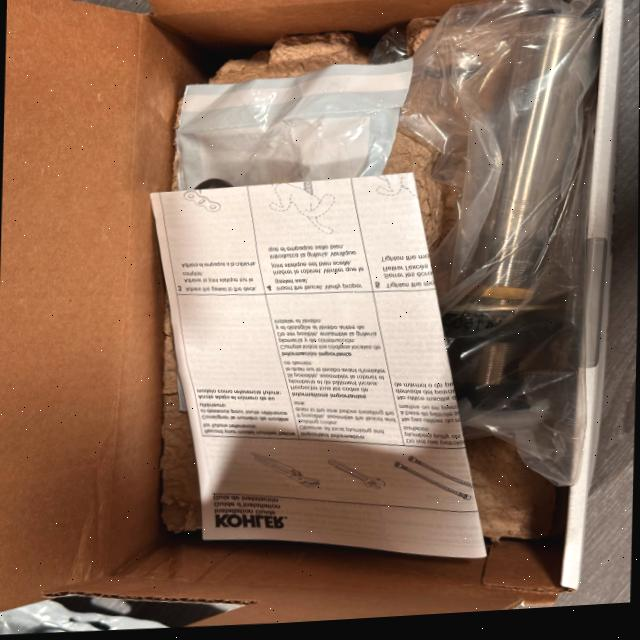11: (399, 0, 606, 484)
12o: (175, 59, 411, 190)
8: (150, 174, 481, 555)
